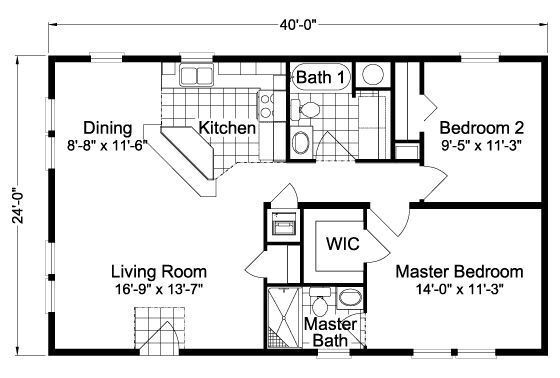door: (138, 318, 185, 357), (374, 202, 417, 238), (418, 160, 451, 206), (239, 245, 276, 282), (317, 129, 357, 161), (362, 231, 396, 266), (273, 178, 300, 205)
room: (302, 190, 556, 358), (48, 54, 291, 211), (285, 67, 552, 207), (48, 212, 269, 358)
wall: (538, 51, 551, 357), (213, 53, 461, 65), (410, 198, 547, 214), (179, 346, 318, 359), (387, 61, 400, 160), (46, 345, 140, 358), (297, 200, 372, 214), (264, 280, 363, 290), (495, 344, 552, 361), (46, 166, 58, 245), (349, 345, 414, 359), (298, 209, 309, 283), (283, 62, 291, 162), (122, 53, 182, 66), (498, 52, 549, 67), (266, 282, 364, 289), (261, 279, 270, 349), (353, 156, 420, 165), (49, 52, 91, 66), (46, 54, 58, 101), (353, 84, 396, 96), (48, 309, 58, 356), (262, 197, 270, 251), (361, 262, 369, 314), (264, 239, 303, 248), (418, 60, 428, 95), (350, 64, 360, 97), (393, 136, 420, 147), (358, 206, 370, 229), (286, 156, 315, 165), (420, 130, 426, 168), (450, 344, 458, 357), (49, 128, 56, 138)
window: (42, 275, 62, 313), (44, 241, 58, 276), (414, 346, 452, 358), (458, 346, 494, 358), (46, 96, 58, 129), (92, 54, 122, 67), (45, 136, 57, 166), (461, 54, 500, 63), (179, 57, 213, 67)
